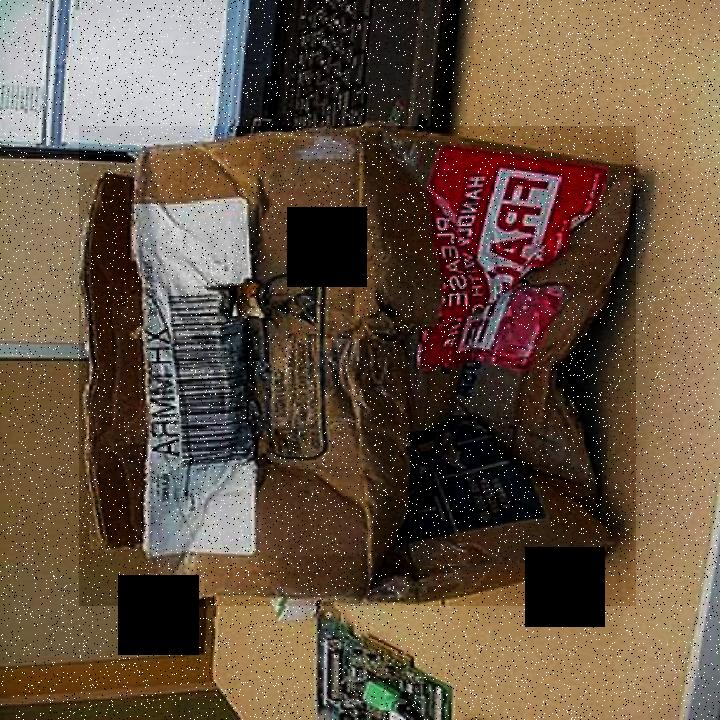box: (80, 126, 638, 606)
